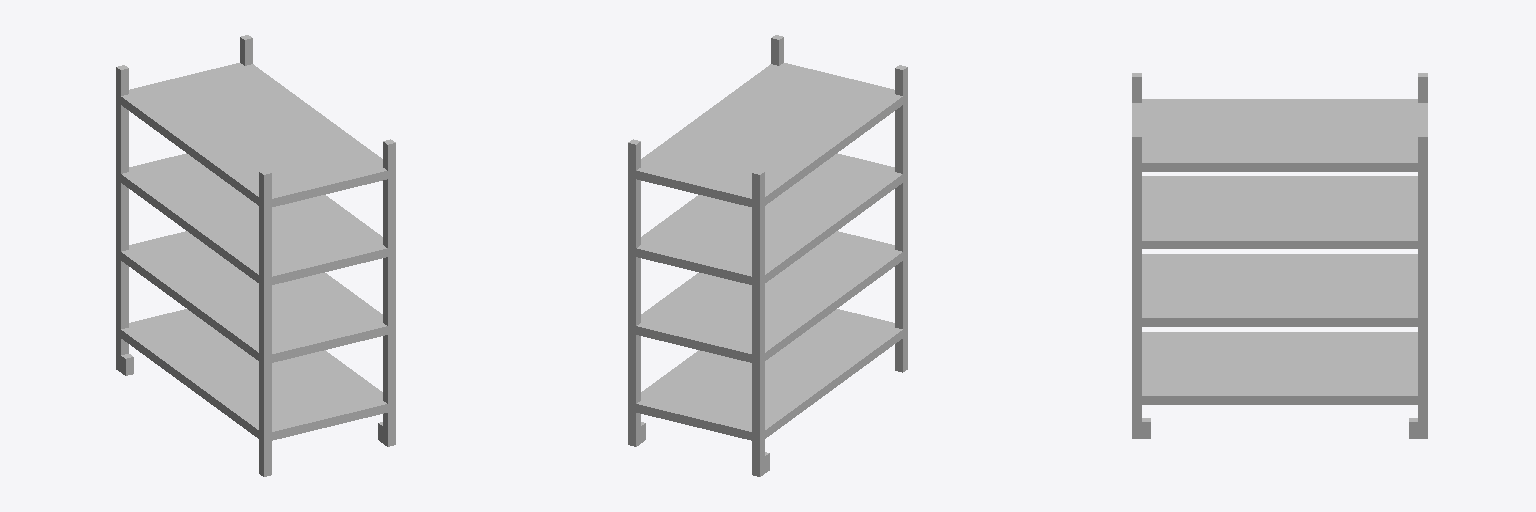
Rendered from The Vault-18.obj.
3 views of the same model, side by side, from view 1: azimuth 30°, elevation 25°; view 2: azimuth 150°, elevation 25°; view 3: azimuth 270°, elevation 25° (orthographic).
Parts seen in each view (by area): view 1: The Vault-18; view 2: The Vault-18; view 3: The Vault-18.
Part boxes in pixels (left/top/right/bottom): The Vault-18: left=116, top=35, right=395, bottom=476; The Vault-18: left=628, top=35, right=907, bottom=476; The Vault-18: left=1132, top=73, right=1427, bottom=438.
Bounding box in the file's own units: 16 × 35 × 31.